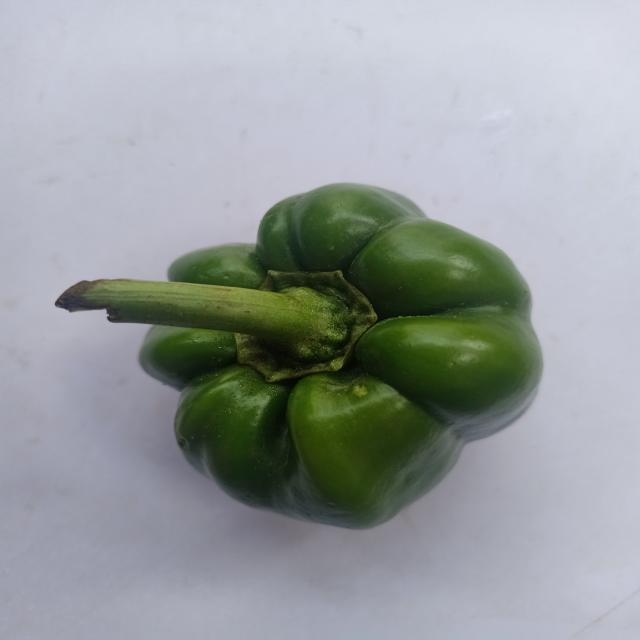Capsicum: (54, 175, 564, 545)
